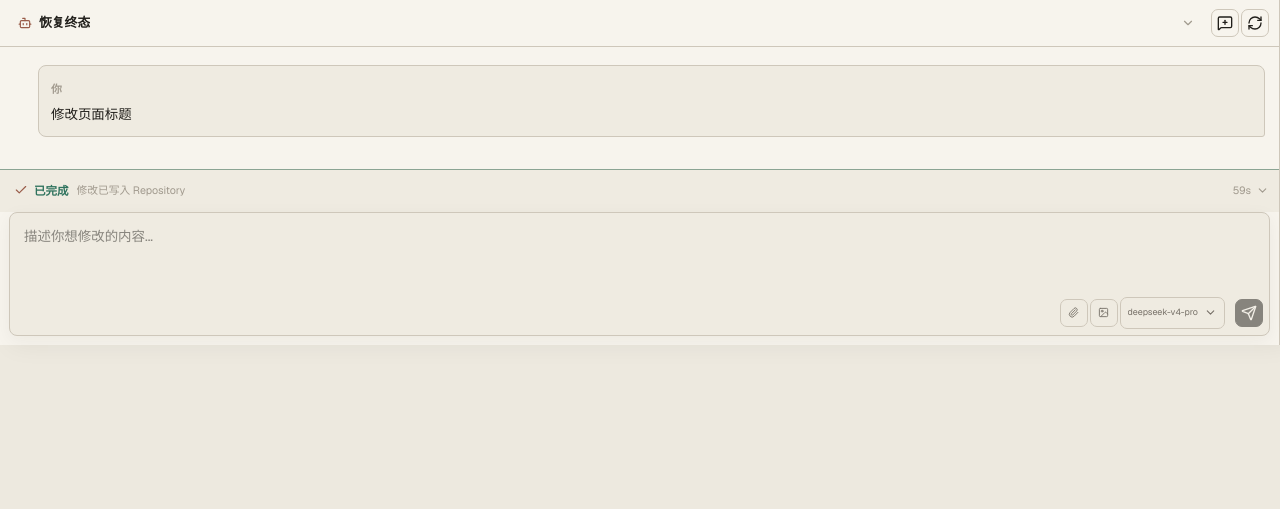
Scenario: AgentPanel › 在终态 SSE 被游标越过后重新拉取快照并恢复完成态
Expected: the button named "停止 Agent Run" is shown, 1235,299 -> 1263,327
Expected: the text "已完成" is shown, 14,182 -> 68,199
Click the heading named "展开或收起运行详情" at (51, 190), box 14,183 -> 1269,198
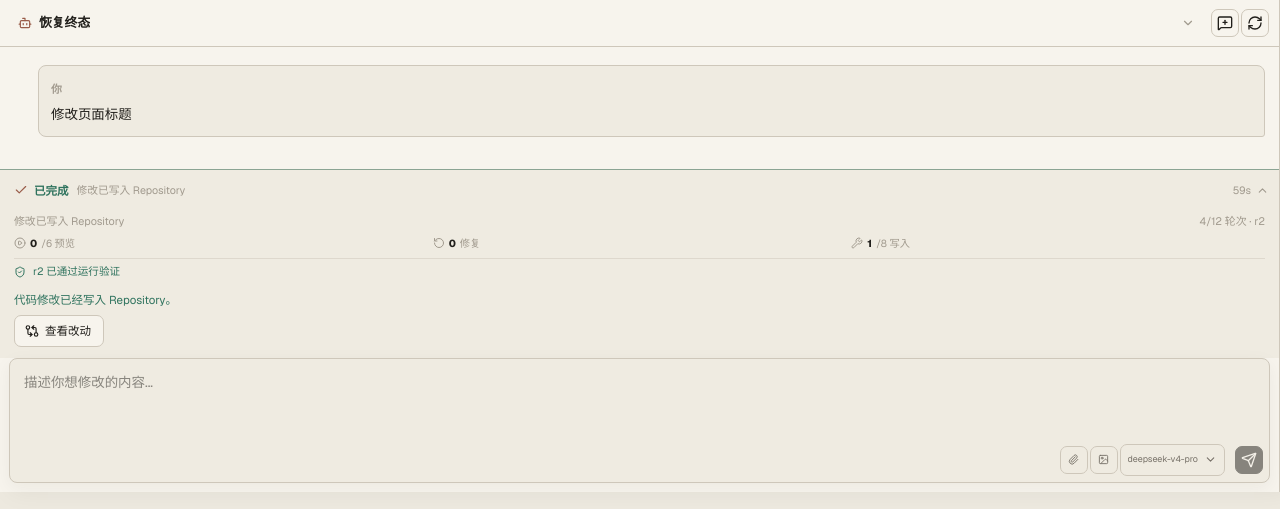
Expected: the text box named "给 Agent 的消息" is enabled, 16,365 -> 1263,440
Now the button "查看改动" is shown, box 14,315 -> 104,347
